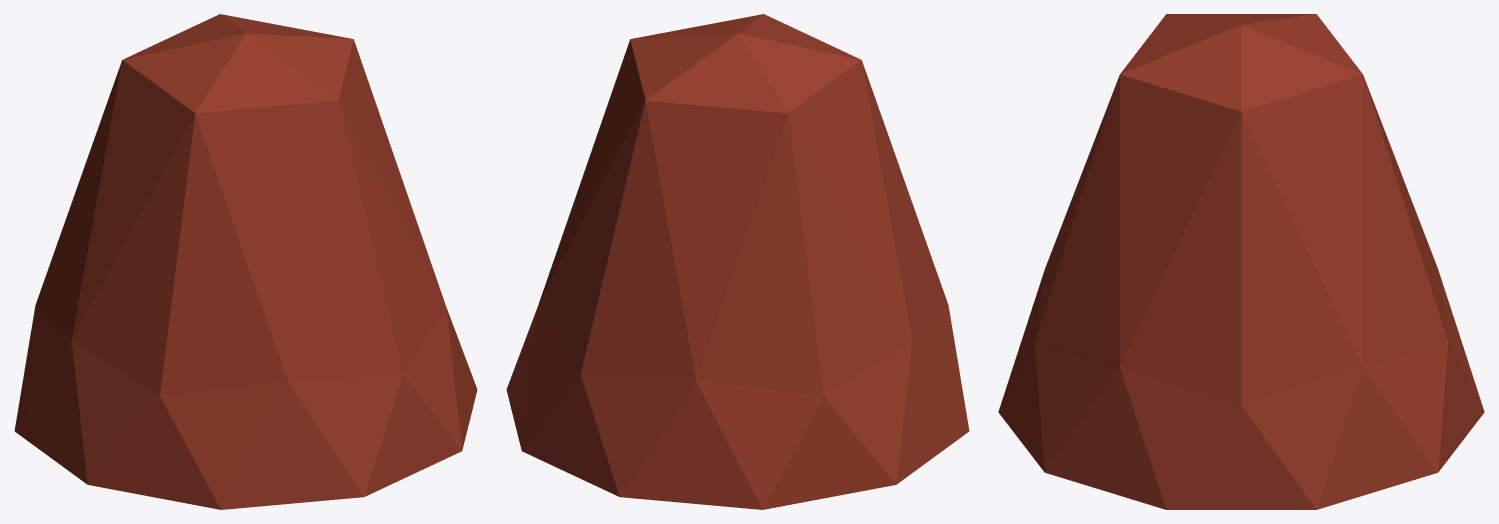
The model's file is stenen10.fbx.
The picture shows the model from 3 angles, left to right: view 1: azimuth 30°, elevation 25°; view 2: azimuth 150°, elevation 25°; view 3: azimuth 270°, elevation 25°; orthographic projection. The views are drawn at different scales.
Visible parts, largest first — view 1: Icosphere.010; view 2: Icosphere.010; view 3: Icosphere.010.
Part boxes in pixels (bbox=[...]): Icosphere.010: bbox=[14, 14, 477, 509]; Icosphere.010: bbox=[506, 14, 969, 509]; Icosphere.010: bbox=[998, 14, 1484, 509].
Bounding box in the file's own units: 190 × 176 × 200.
